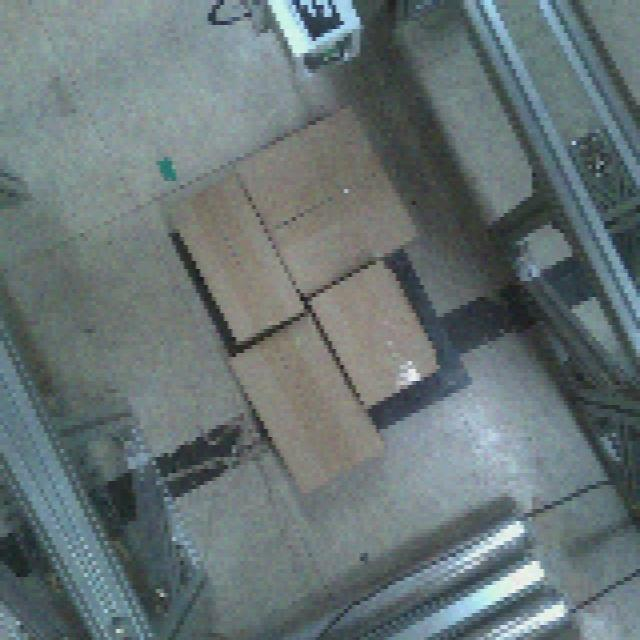box: (228, 97, 424, 299), (220, 304, 391, 499), (162, 167, 308, 346), (302, 254, 443, 411)
